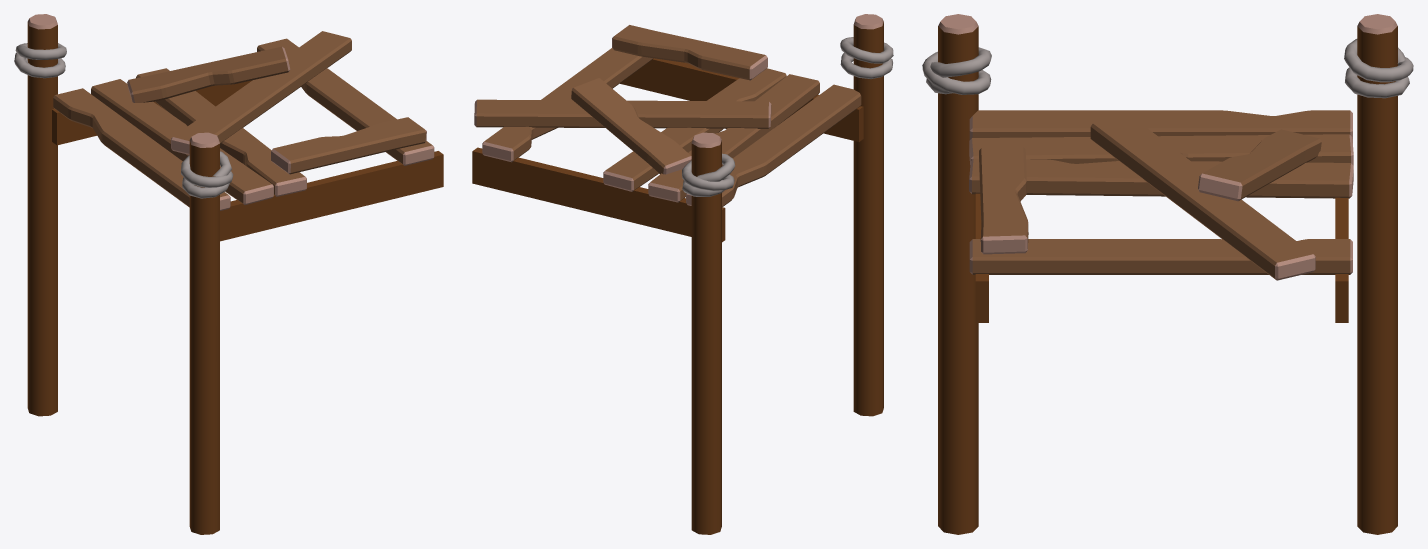
File: quaternius-pirate-environment-dock-broken.glb
The picture shows the model from 3 angles, left to right: view 1: azimuth 30°, elevation 25°; view 2: azimuth 150°, elevation 25°; view 3: azimuth 270°, elevation 25°; orthographic projection. The views are drawn at different scales.
Parts seen in each view (by area): view 1: Environment_Dock_Broken; view 2: Environment_Dock_Broken; view 3: Environment_Dock_Broken.
Part boxes in pixels (x1=…): Environment_Dock_Broken: x1=14, y1=14, x2=443, y2=534; Environment_Dock_Broken: x1=472, y1=14, x2=893, y2=534; Environment_Dock_Broken: x1=922, y1=14, x2=1413, y2=534.
Bounding box in the file's own units: 2.38 × 3.01 × 2.66.
1 material, 1 textured.
